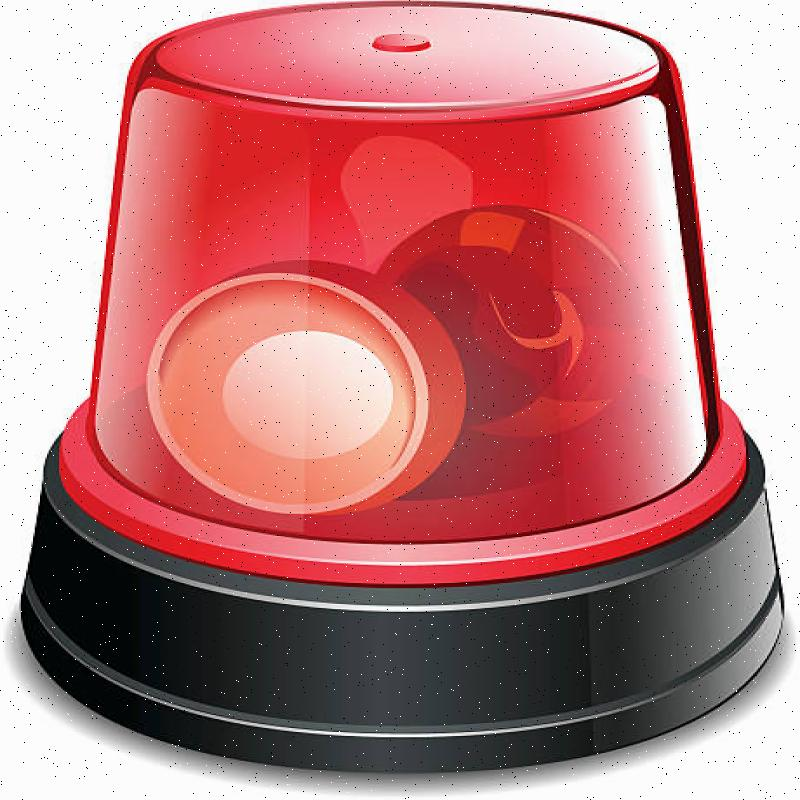AmbulanceSiren: (0, 4, 767, 800)
